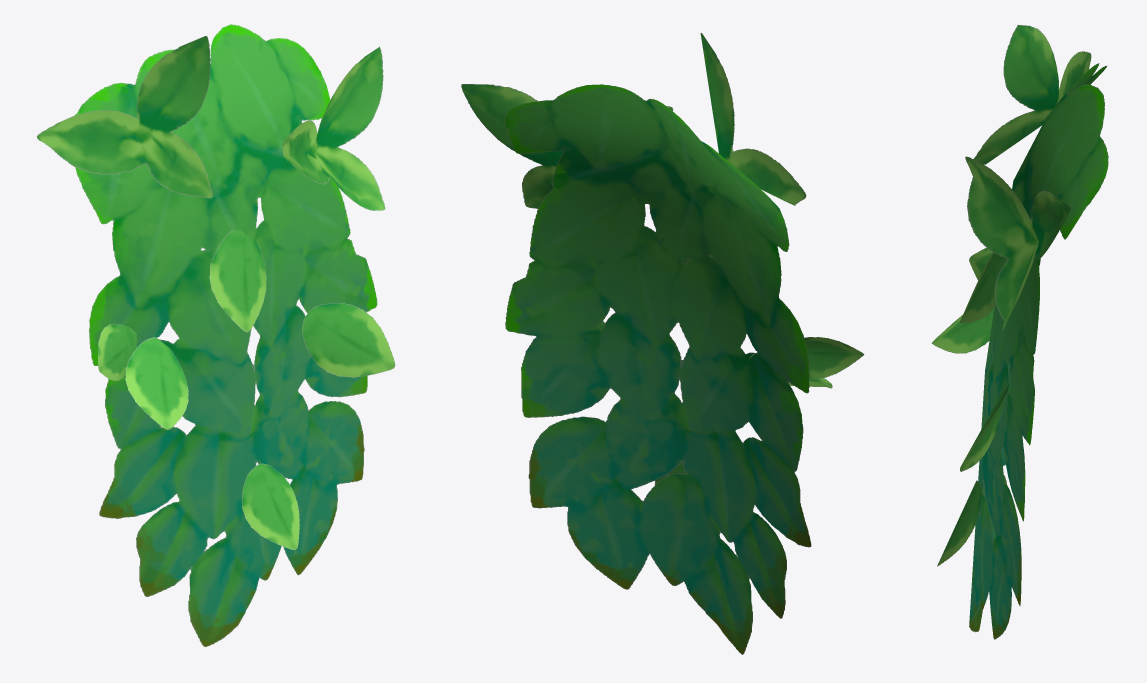
Rendered from Flower_01_Leaf_b.fbx.
3 views of the same model, side by side, from view 1: azimuth 30°, elevation 25°; view 2: azimuth 150°, elevation 25°; view 3: azimuth 270°, elevation 25° (orthographic). The views are drawn at different scales.
Visible parts, largest first — view 1: Leaf_01_b; view 2: Leaf_01_b; view 3: Leaf_01_b.
Boxes of the visible parts, <box> form: Leaf_01_b: <box>36,24,395,646</box>; Leaf_01_b: <box>461,33,864,654</box>; Leaf_01_b: <box>931,24,1108,639</box>.
Size of the model in its own units: 47.44 by 78.48 by 23.98.
